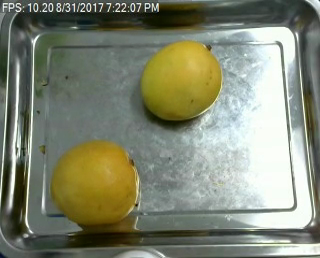Mango: (51, 142, 140, 225), (139, 39, 221, 120)
